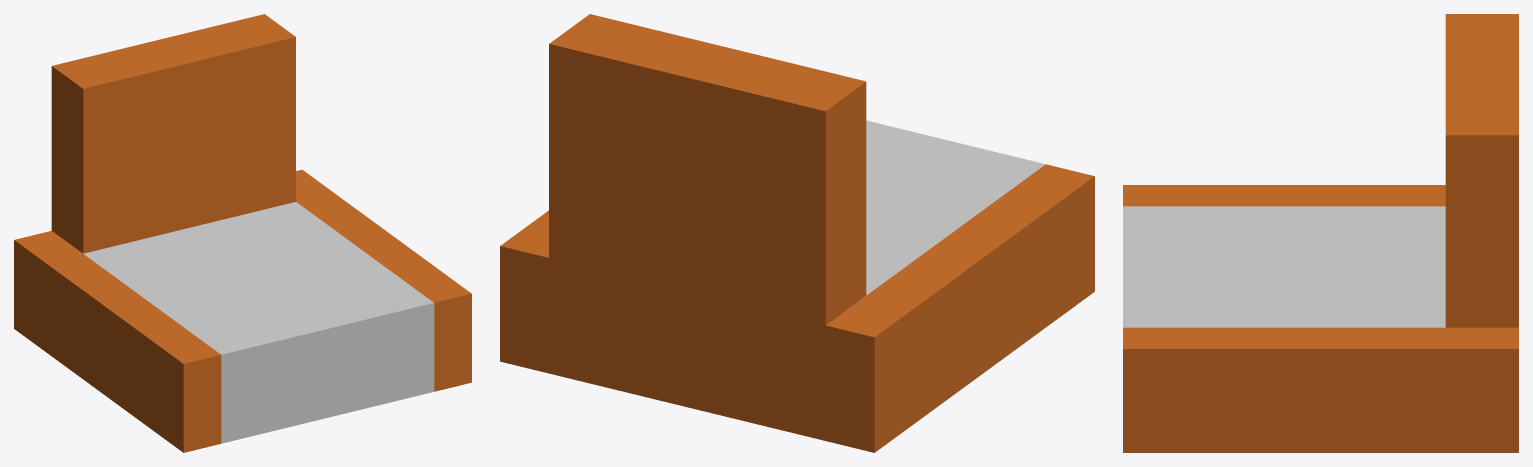
Rendered from Helm.fbx.
The picture shows the model from 3 angles, left to right: view 1: azimuth 30°, elevation 25°; view 2: azimuth 150°, elevation 25°; view 3: azimuth 270°, elevation 25°; orthographic projection. The views are drawn at different scales.
Visible parts, largest first — view 1: Cube; view 2: Cube; view 3: Cube.
Boxes of the visible parts, <box> form: Cube: <box>14,14,471,452</box>; Cube: <box>500,14,1094,452</box>; Cube: <box>1123,14,1518,452</box>.
Size of the model in its own units: 381 by 320 by 388.
